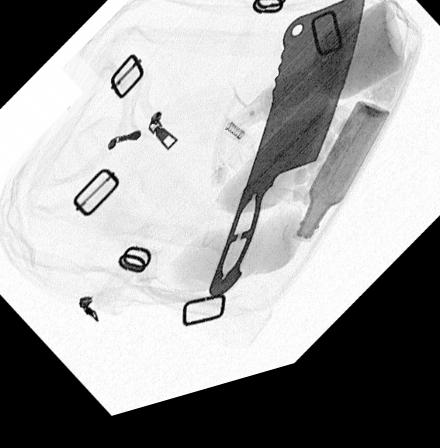Knife: (207, 8, 365, 310)
